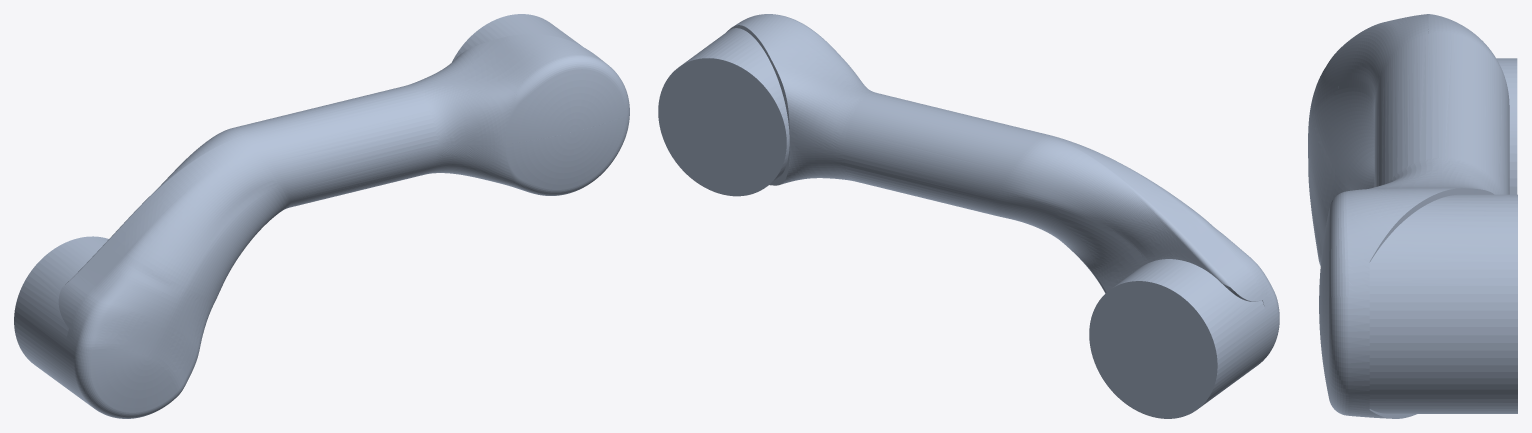
3 renders of one model, left to right at view 1: azimuth 30°, elevation 25°; view 2: azimuth 150°, elevation 25°; view 3: azimuth 270°, elevation 25°, orthographic. The views are drawn at different scales.
Visible parts, largest first — view 1: UArm-V3.6-Secondary arm-simplified; view 2: UArm-V3.6-Secondary arm-simplified; view 3: UArm-V3.6-Secondary arm-simplified.
Boxes of the visible parts, x1,y1,x2,y2 form: UArm-V3.6-Secondary arm-simplified: (14, 14, 629, 418); UArm-V3.6-Secondary arm-simplified: (658, 14, 1279, 418); UArm-V3.6-Secondary arm-simplified: (1308, 14, 1517, 418).
Bounding box in the file's own units: 0.283 × 0.0623 × 0.124.
